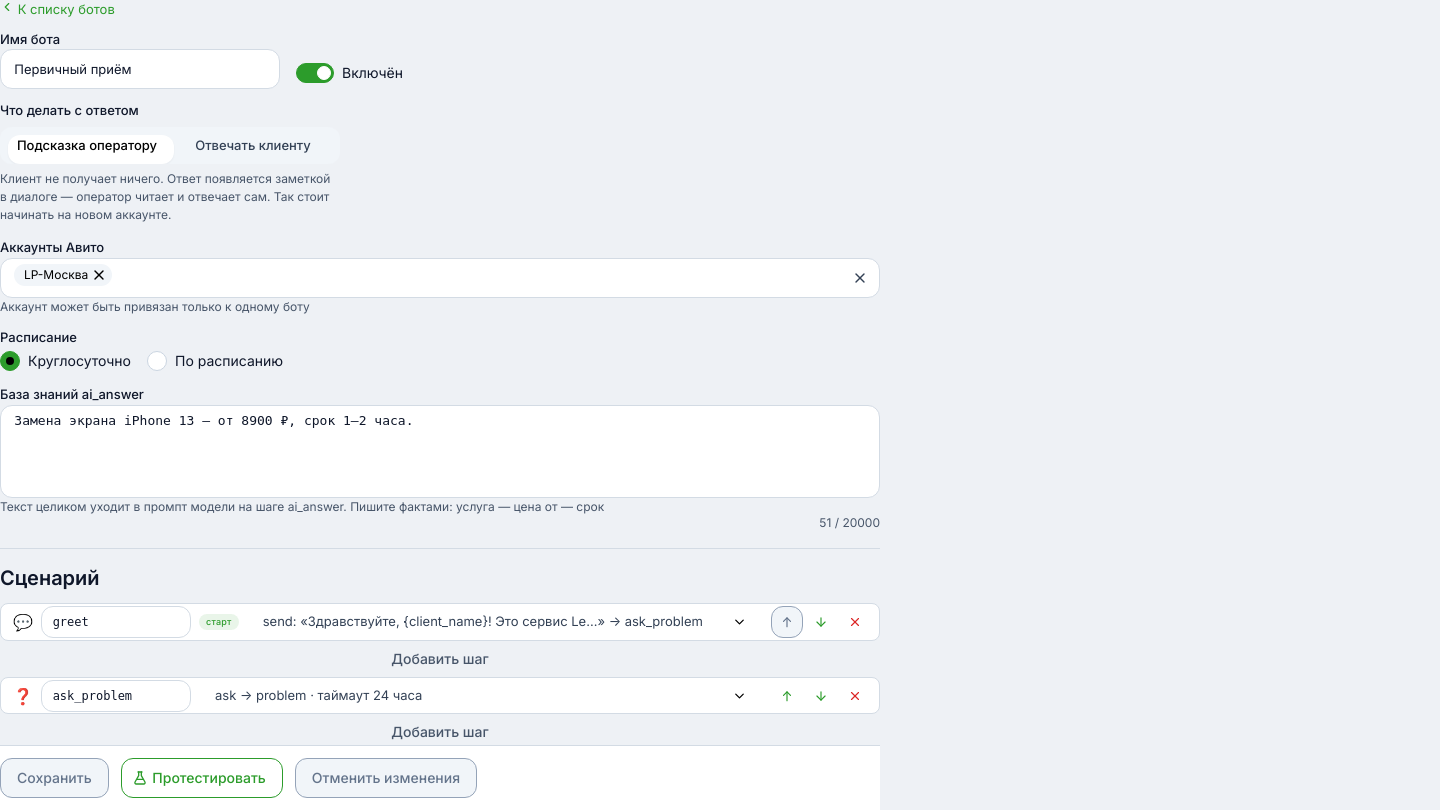
Песочница сценария › истёкшая сессия объясняется словами и предлагает начать заново
The width and height of the screenshot is (1440, 810).
Expected: the field labelled "Имя бота" is shown, [0,49,280,89]
Click the button "Протестировать": (202, 778) [121,758,283,798]
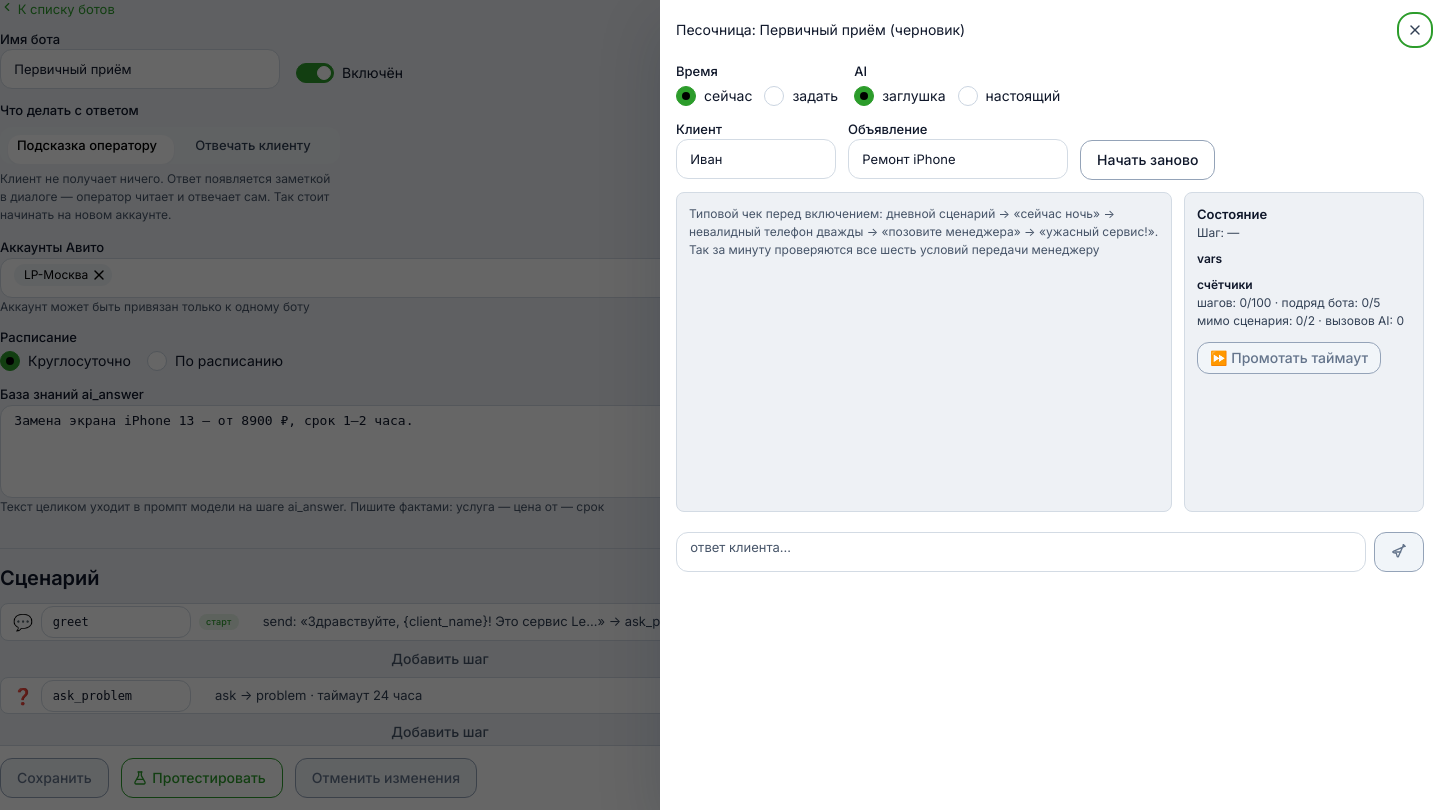
Now the text box labelled "ответ клиента" is shown
In the text box labelled "ответ клиента": (1021, 552) [676,532,1366,572], type "привет"
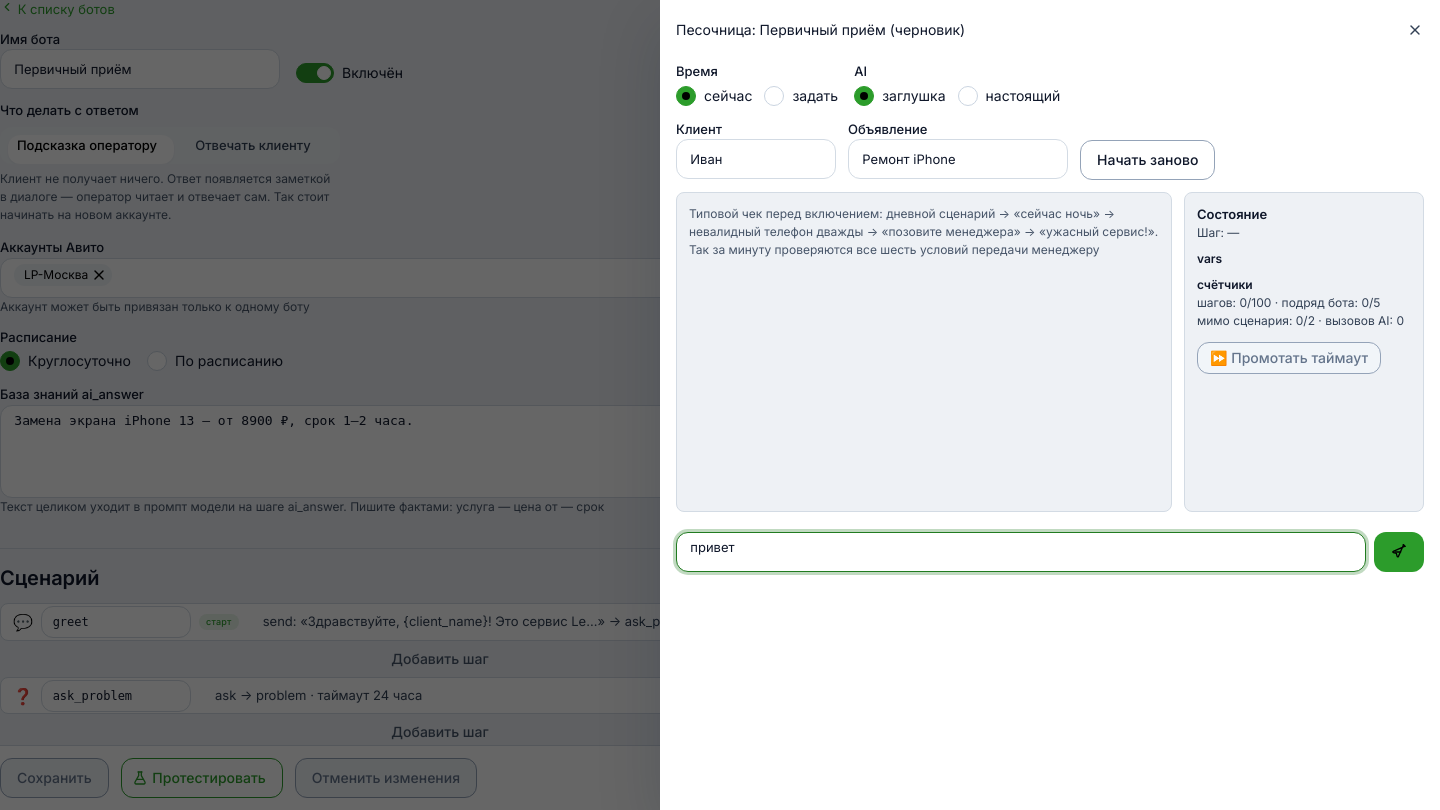
Click the button named "Отправить ответ клиента": (1399, 552) [1374,532,1424,572]
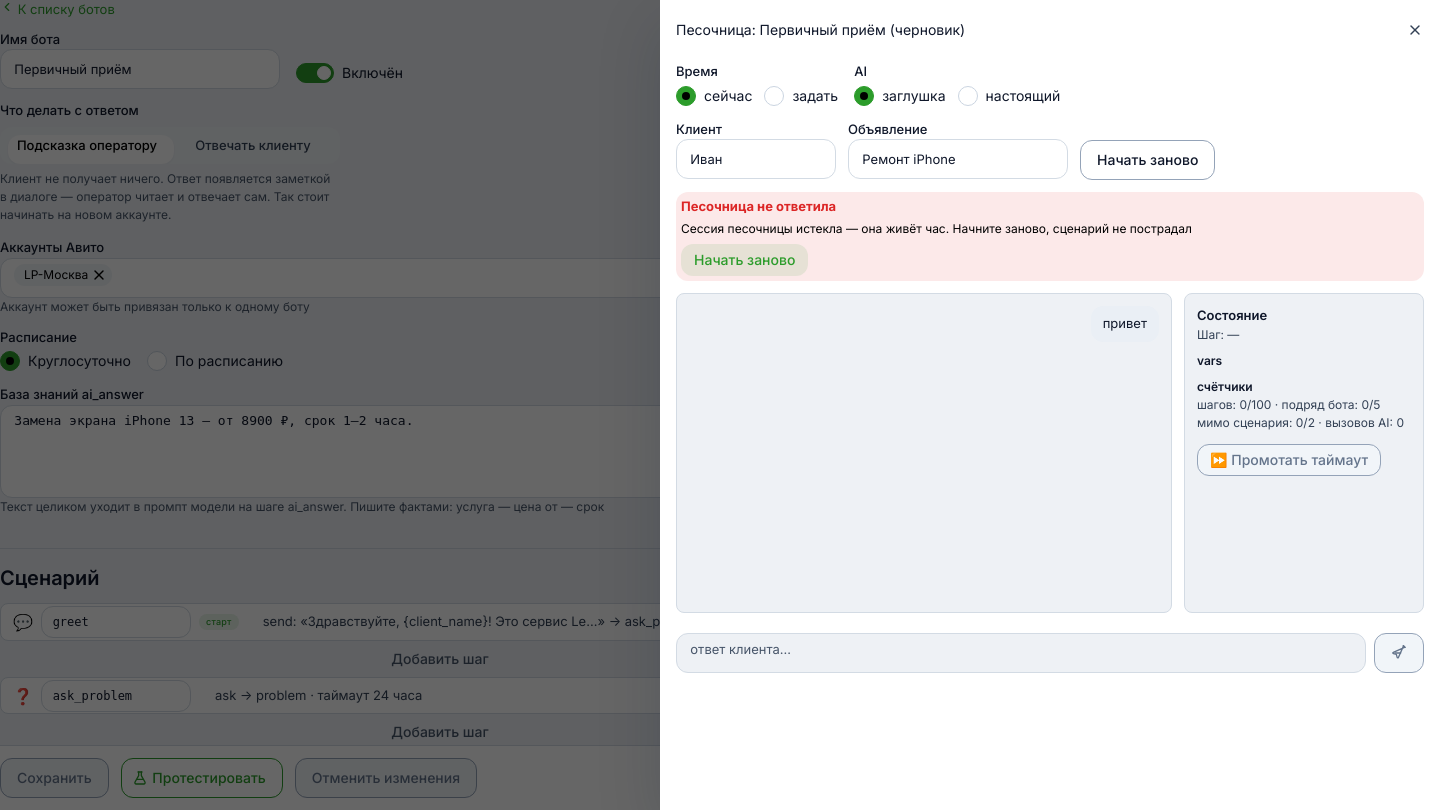
Now the message with test id "sandbox-failure" shows "истекла", box [681,221,1192,236]
Now the text box labelled "ответ клиента" is disabled, box [676,633,1366,673]
Now the button "Начать заново" below "Песочница не ответила" is shown, box [681,244,808,276]
